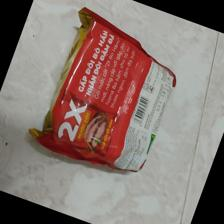3mien: (27, 6, 178, 174)
